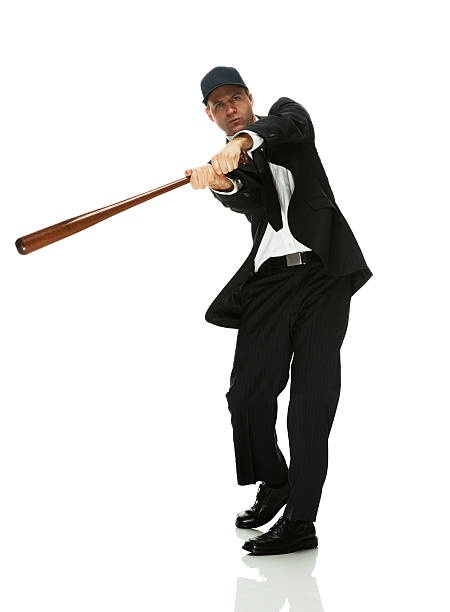bita: (15, 166, 229, 256)
